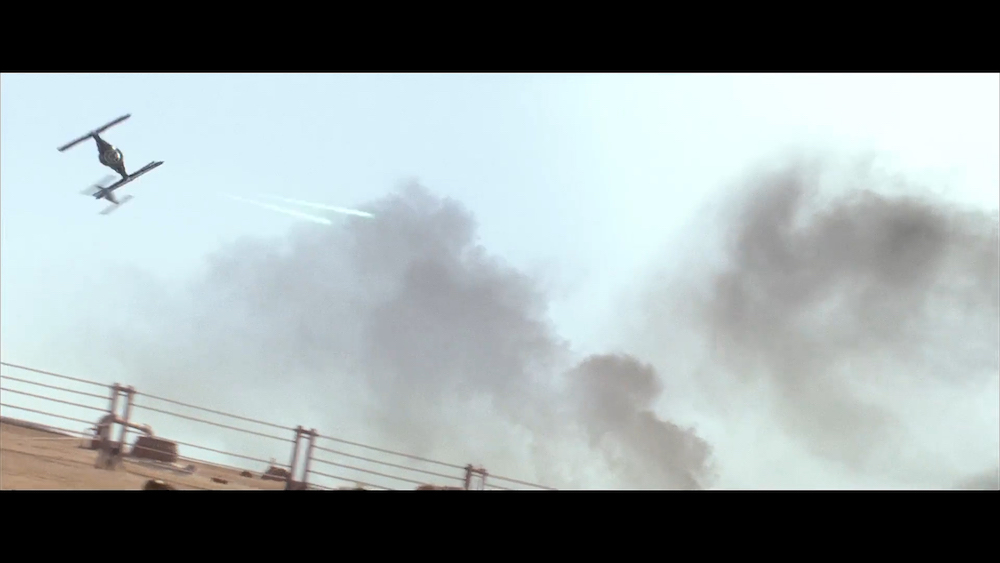Tie Fighter: (59, 115, 165, 199), (81, 175, 135, 215)
